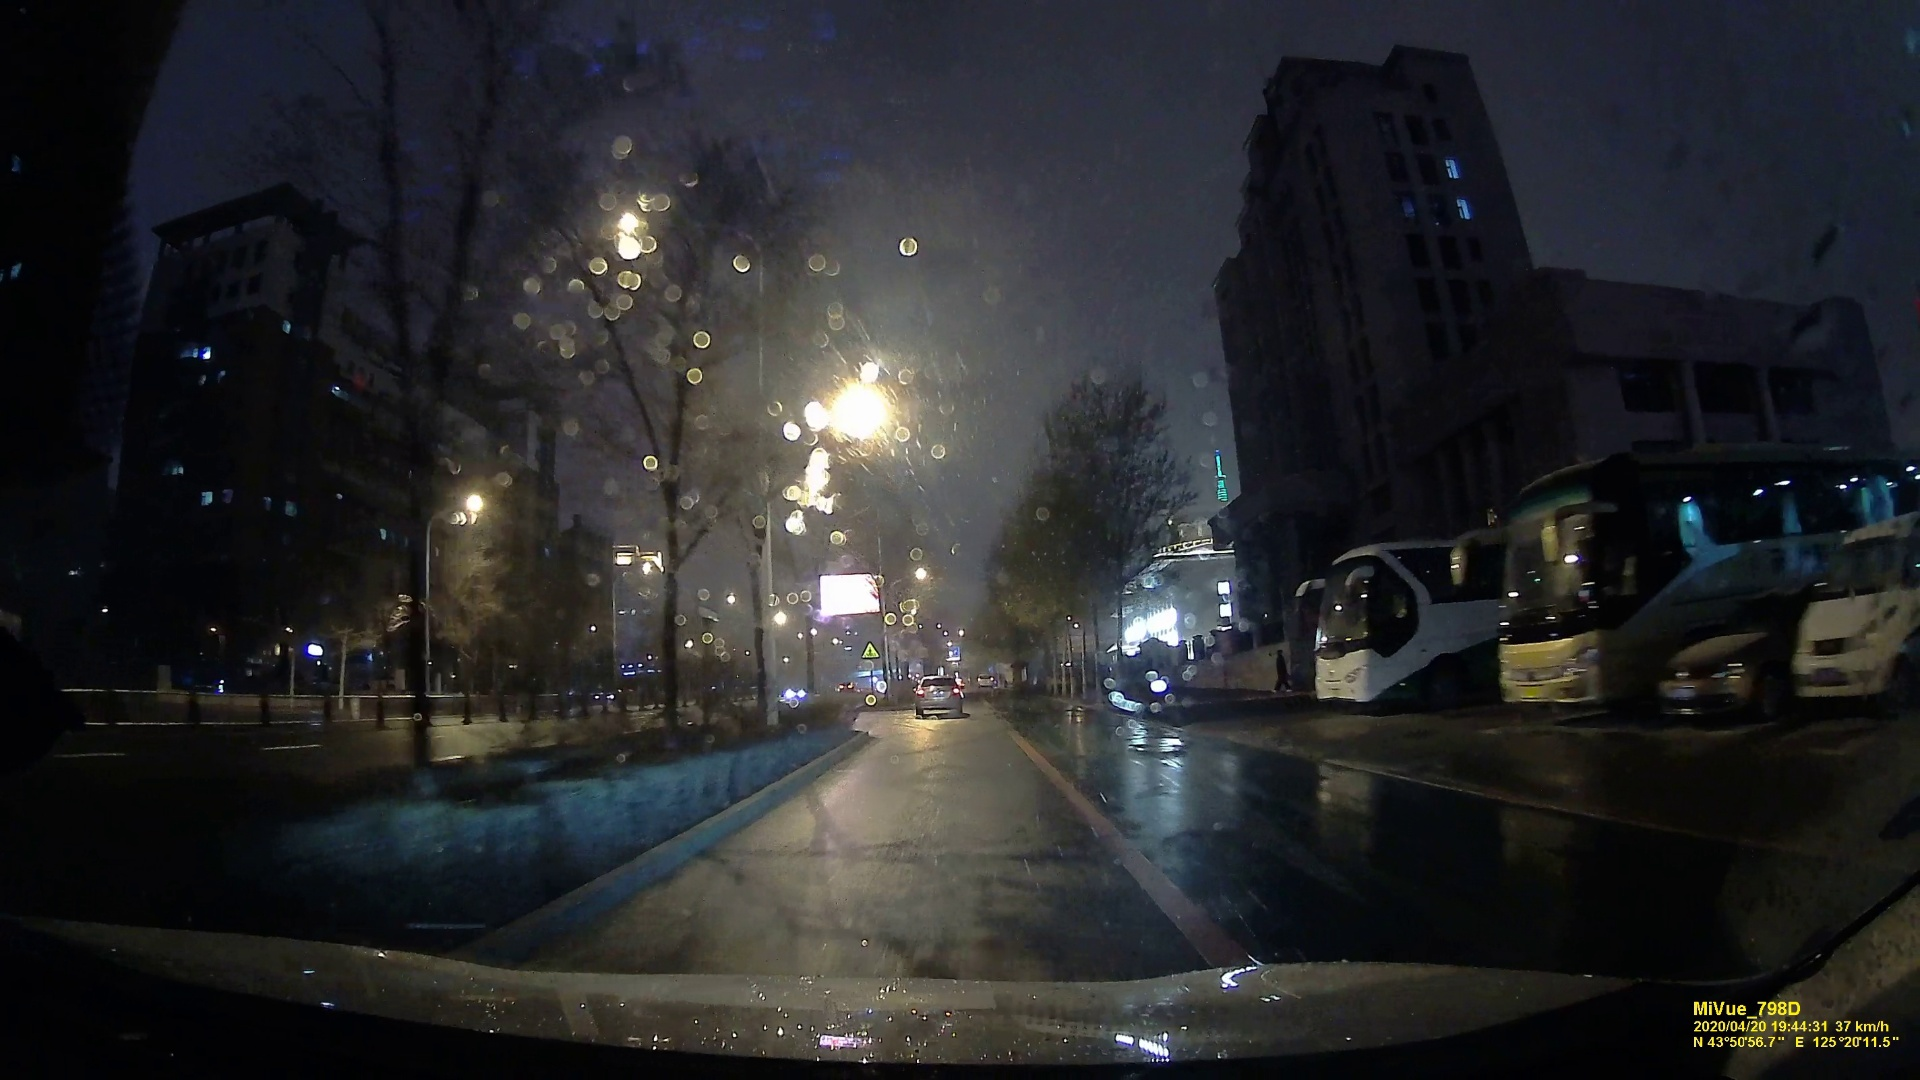bus: (1494, 456, 1807, 708), (1309, 543, 1485, 709)
vehicle: (913, 675, 965, 717), (861, 640, 880, 658)
